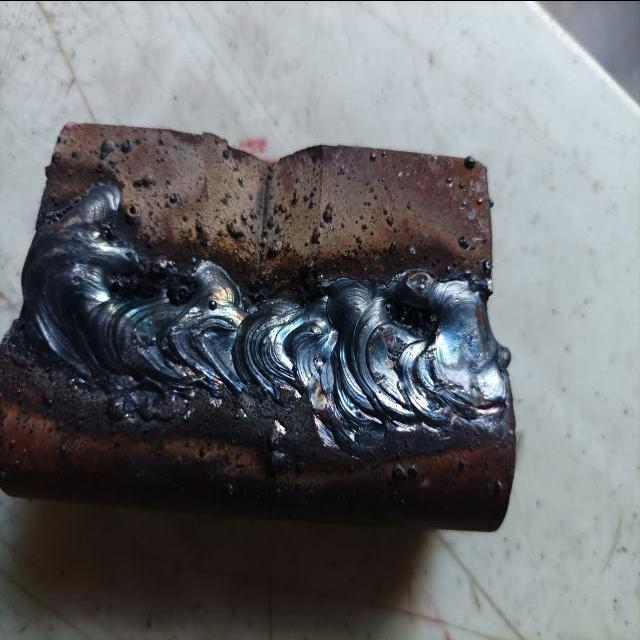defect: (380, 296, 439, 338), (165, 277, 200, 308), (387, 337, 408, 362), (109, 275, 125, 297)
